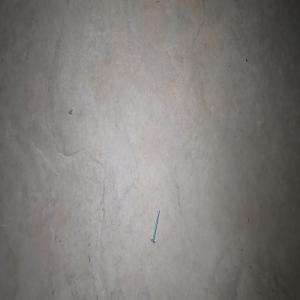Bolt: (150, 208, 159, 243)
